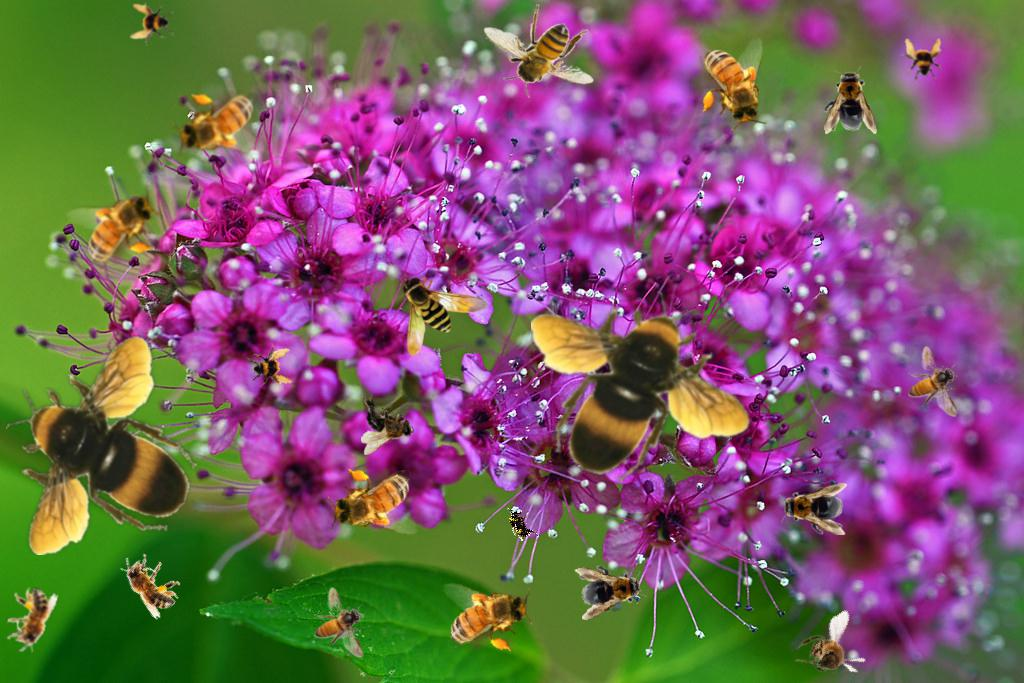Bee: (6, 335, 197, 555), (531, 291, 751, 482), (483, 4, 594, 98), (63, 183, 171, 274), (435, 578, 537, 657), (324, 463, 424, 540), (400, 274, 488, 356), (785, 609, 876, 683), (699, 37, 767, 130), (173, 90, 266, 158), (109, 543, 189, 622), (573, 557, 649, 621), (0, 583, 60, 658), (821, 65, 877, 137), (908, 346, 958, 417), (314, 587, 364, 658), (779, 483, 847, 535), (361, 393, 414, 455), (244, 340, 296, 392), (898, 35, 946, 83), (130, 2, 174, 46), (500, 501, 540, 547)
